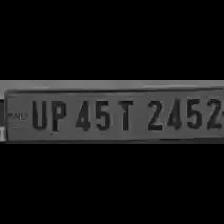2: (140, 96, 164, 132), (203, 96, 221, 130)
4: (69, 97, 91, 131), (163, 96, 181, 130)
5: (90, 96, 113, 132), (182, 96, 202, 130)
P: (46, 97, 68, 131)
T: (114, 96, 136, 132)
U: (26, 97, 48, 130)
